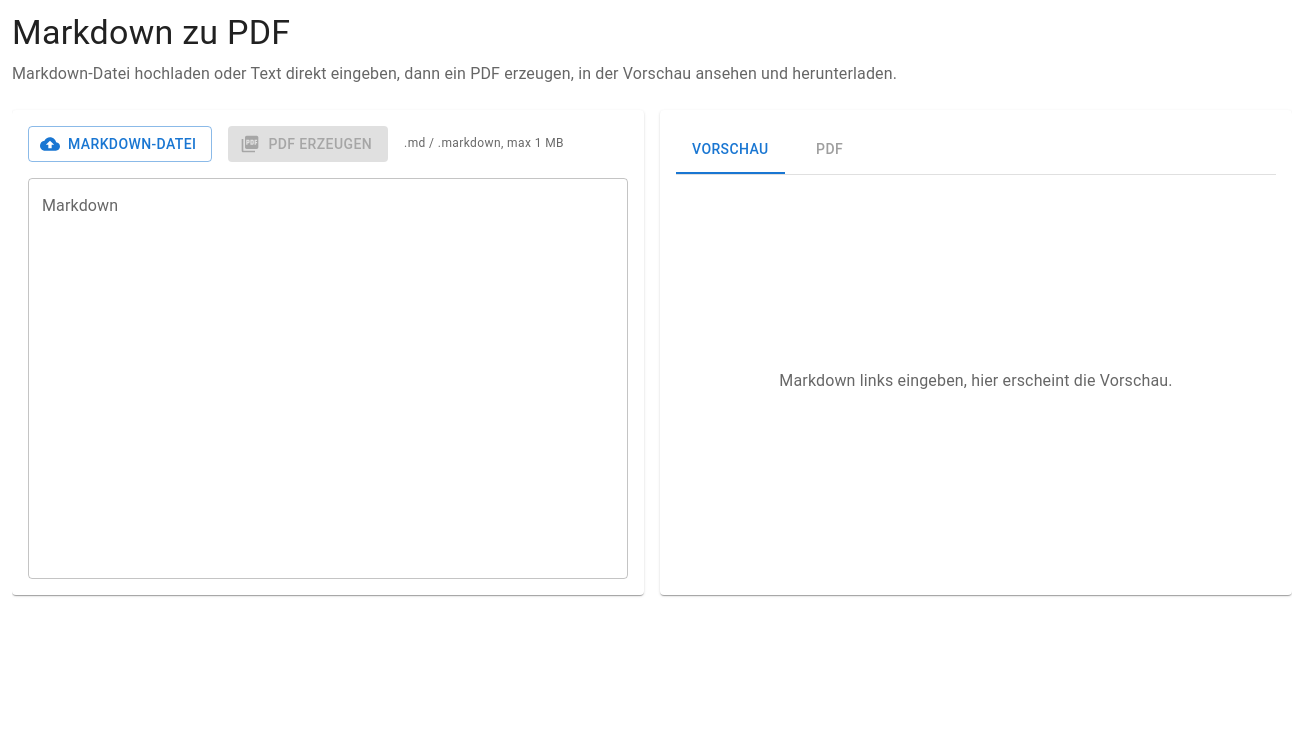
MarkdownToPdfPage › renders markdown input as HTML in preview tab
This screenshot has width=1292, height=732.
Type "# Mein Titel" into the text box labelled "Markdown".
click(328, 379); type("# Mein Titel")  # box [42,195,614,563]
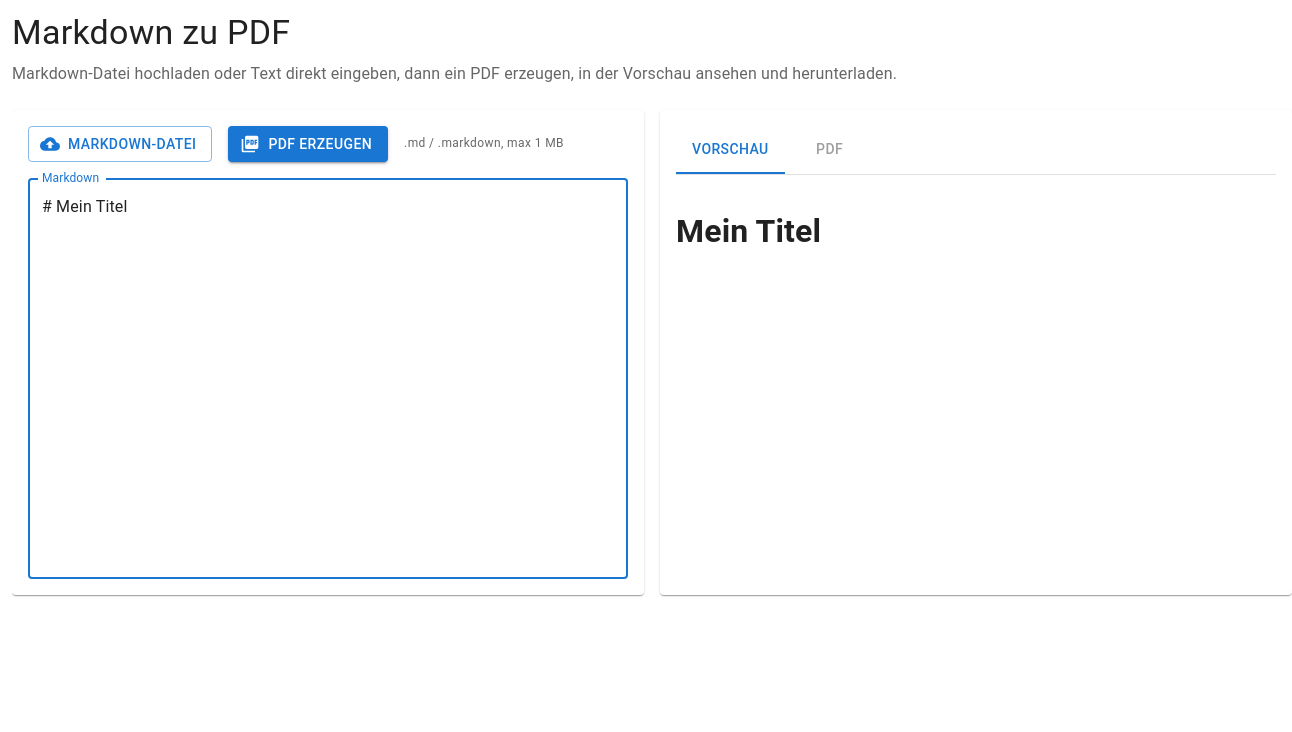
Now the heading "Mein Titel" is shown, box [676,212,821,250]
